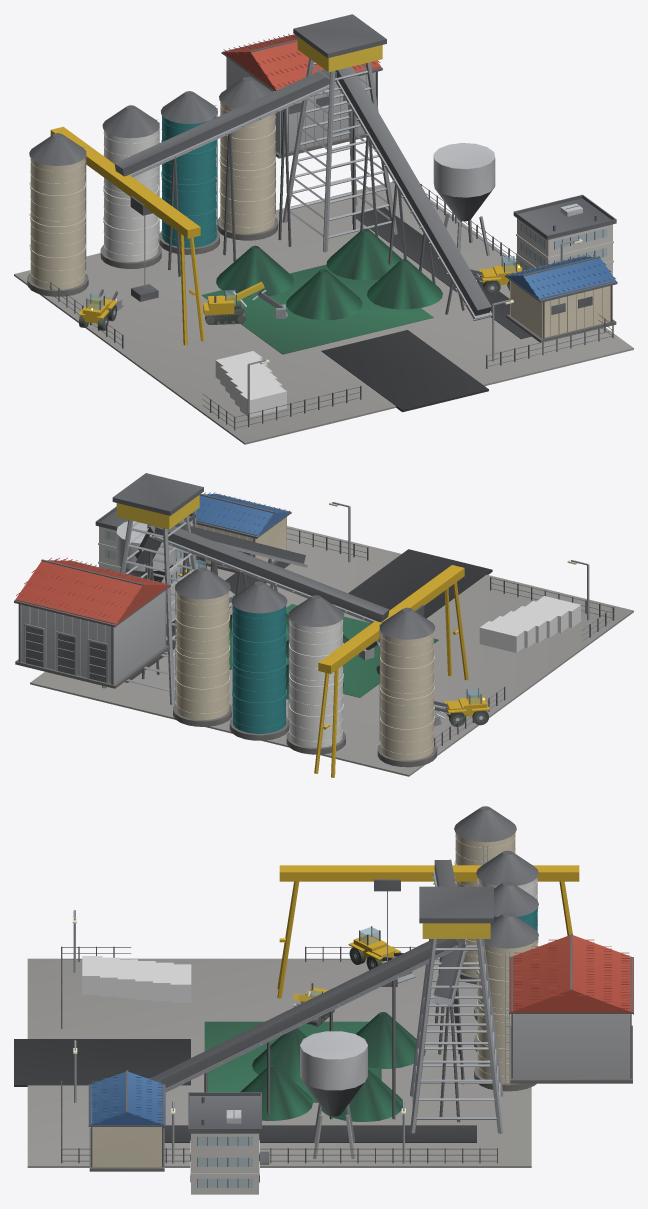
The model's file is Depot_P3.fbx.
3 views of the same model, one above another, from view 1: azimuth 30°, elevation 25°; view 2: azimuth 150°, elevation 25°; view 3: azimuth 270°, elevation 25° (orthographic). The views are drawn at different scales.
Visible parts, largest first — view 1: Depot.Yard, Depot.Tower, Depot.Silo0, Depot.ConvMain, Depot.Shed2, Depot.Silo3, Depot.ConvB, Depot.Shed1, Depot.Silo1, Depot.Silo2, Depot.Office, Depot.Gantry (+10 smaller); view 2: Depot.Yard, Depot.Shed1, Depot.Silo0, Depot.Silo3, Depot.Silo2, Depot.Silo1, Depot.Tower, Depot.ConvB, Depot.Gantry, Depot.Shed2, Depot.Containers, Depot.ConvMain (+5 smaller); view 3: Depot.Yard, Depot.Shed1, Depot.Tower, Depot.Office, Depot.ConvMain, Depot.Shed2, Depot.Gantry, Depot.Hopper, Depot.Silo3, Depot.Containers, Depot.Silo0, Depot.Fence (+9 smaller).
Boxes of the visible parts, <box> form: Depot.Yard: <box>14,182,633,444</box>; Depot.Tower: <box>282,14,397,252</box>; Depot.Silo0: <box>27,133,88,296</box>; Depot.ConvMain: <box>335,66,492,320</box>; Depot.Shed2: <box>505,255,617,342</box>; Depot.Silo3: <box>217,77,278,240</box>; Depot.ConvB: <box>114,69,336,276</box>; Depot.Shed1: <box>221,33,382,158</box>; Depot.Silo1: <box>100,105,161,268</box>; Depot.Silo2: <box>159,91,219,254</box>; Depot.Office: <box>513,194,616,275</box>; Depot.Gantry: <box>50,126,204,345</box>; Depot.Yard: <box>30,526,633,776</box>; Depot.Shed1: <box>14,557,170,688</box>; Depot.Silo0: <box>377,607,437,767</box>; Depot.Silo3: <box>173,567,232,726</box>; Depot.Silo2: <box>229,581,288,740</box>; Depot.Silo1: <box>286,595,345,754</box>; Depot.Tower: <box>102,473,203,704</box>; Depot.ConvB: <box>152,526,389,623</box>; Depot.Gantry: <box>314,565,468,777</box>; Depot.Shed2: <box>192,492,291,575</box>; Depot.Containers: <box>479,596,580,652</box>; Depot.ConvMain: <box>148,523,307,595</box>; Depot.Yard: <box>14,958,531,1167</box>; Depot.Shed1: <box>509,933,633,1083</box>; Depot.Tower: <box>410,886,503,1133</box>; Depot.Office: <box>188,1092,269,1194</box>; Depot.ConvMain: <box>149,939,458,1119</box>; Depot.Shed2: <box>88,1070,165,1171</box>; Depot.Gantry: <box>277,865,579,998</box>; Depot.Hopper: <box>300,1031,367,1158</box>; Depot.Silo3: <box>474,912,538,1091</box>; Depot.Containers: <box>82,956,191,1002</box>; Depot.Silo0: <box>454,806,516,984</box>; Depot.Fence: <box>61,946,497,1163</box>.
Size of the model in its own units: 8416 by 3465 by 9104.
